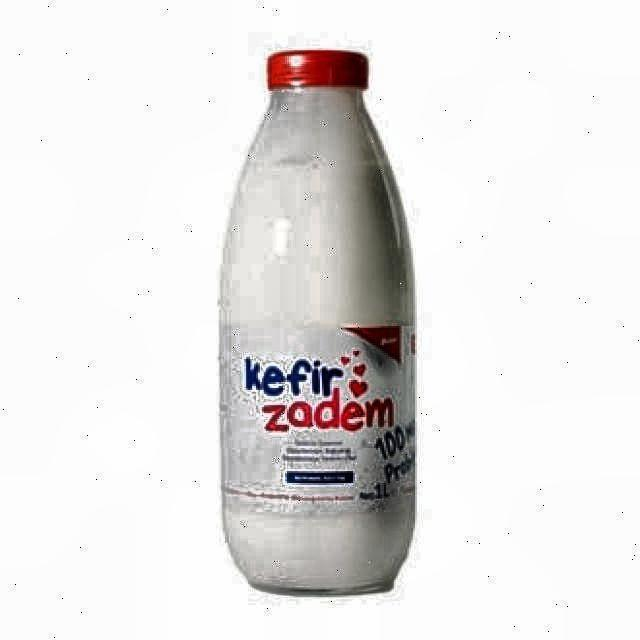plastic: (214, 50, 419, 598)
